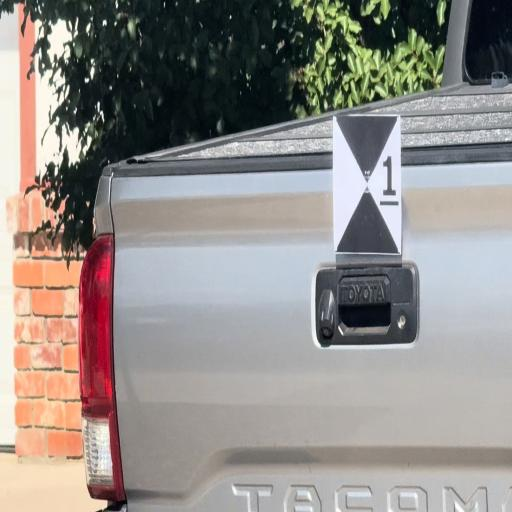target1: (334, 116, 402, 254)
